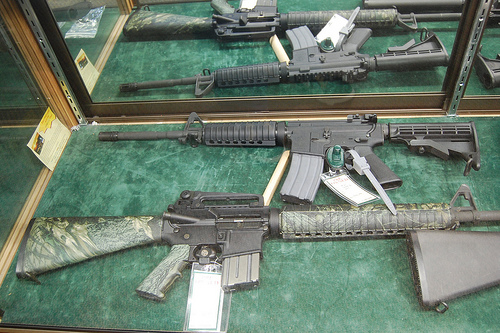rifle: (16, 197, 495, 297), (25, 110, 500, 205), (38, 44, 497, 111), (38, 3, 500, 41)
